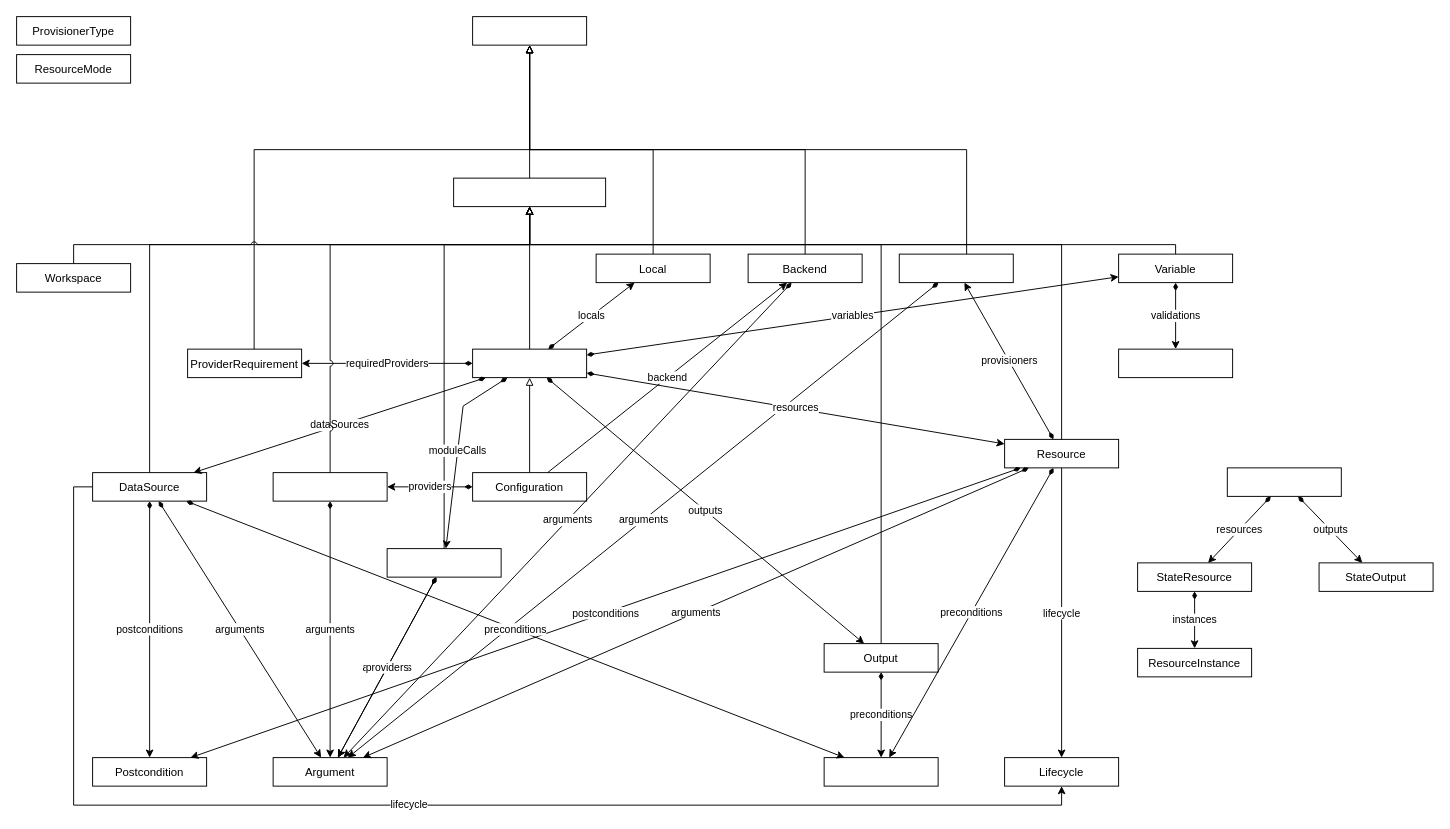
This 1450x829 diagram has some shape labels left out. The centre of each missing label's shape, as x and y in pixels:
"DocumentedNamedElement" belongs at [529,192].
"Module" belongs at [529,363].
"ModuleCall" belongs at [443,562].
"NamedElement" belongs at [529,30].
"Precondition" belongs at [880,771].
"Provider" belongs at [329,486].
"Provisioner" belongs at [955,268].
"State" belongs at [1283,481].
"Validation" belongs at [1175,363].
